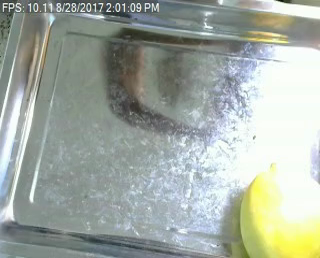Mango: (239, 165, 320, 258)
